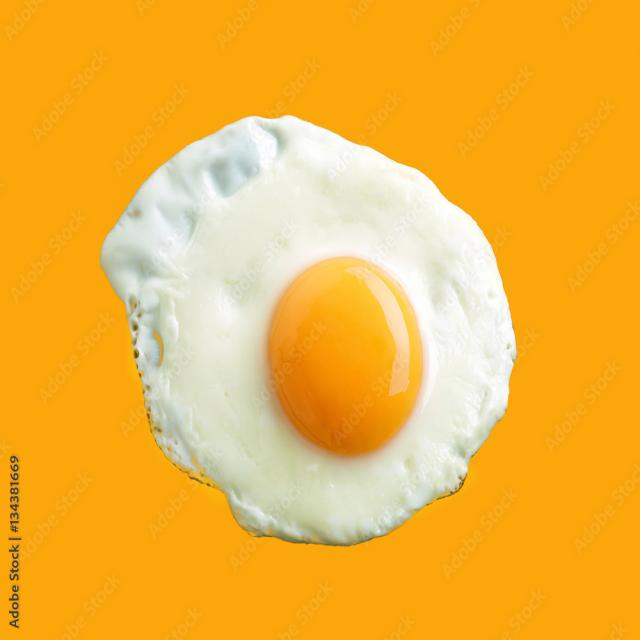Egg: (101, 117, 516, 545)
